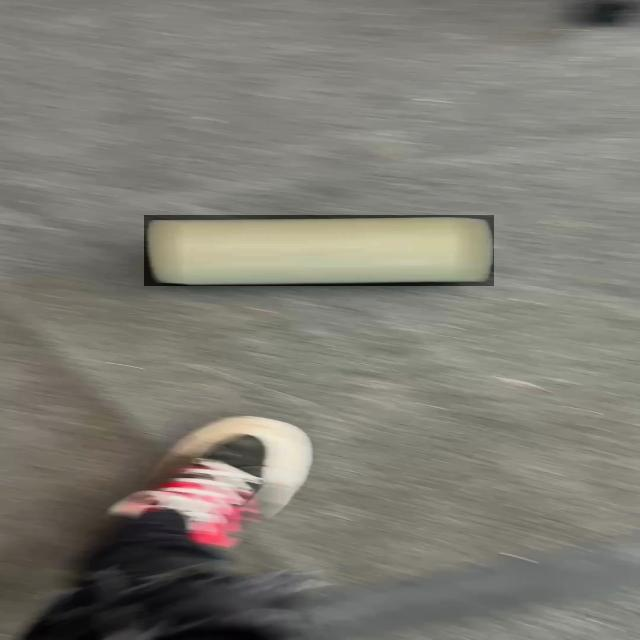Coral: (144, 215, 494, 286)
